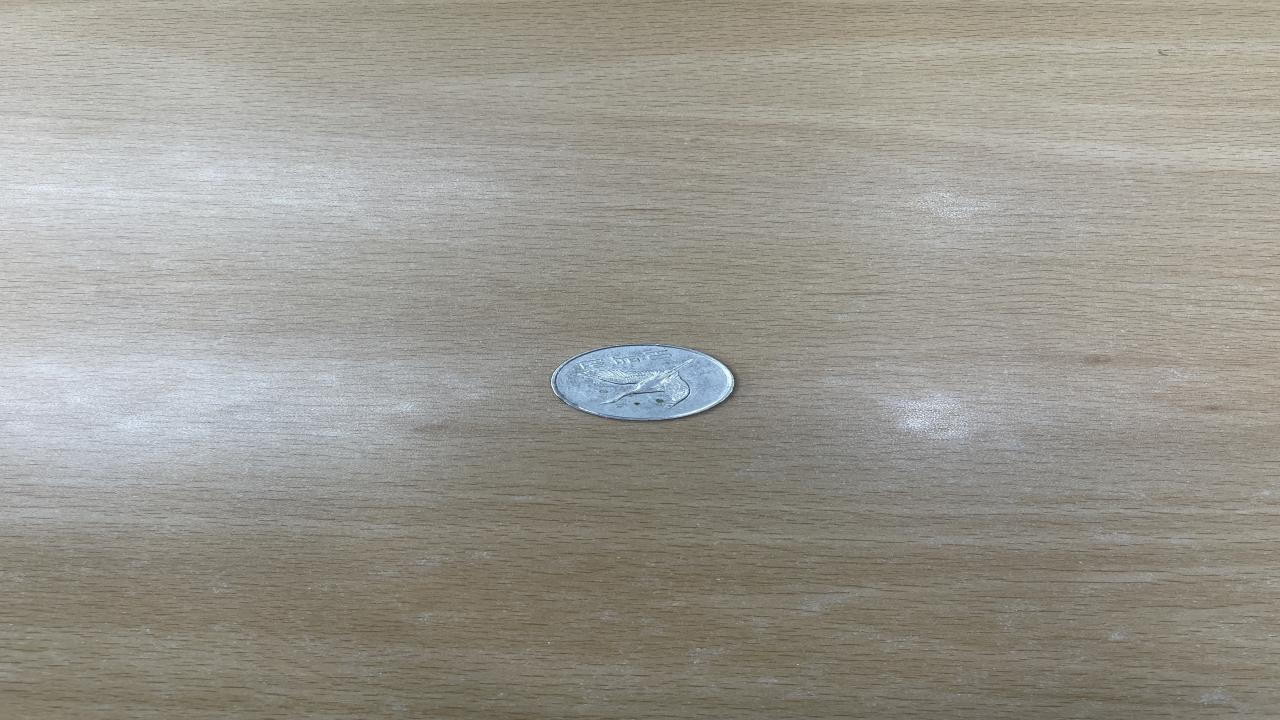coin: (549, 344, 738, 422)
